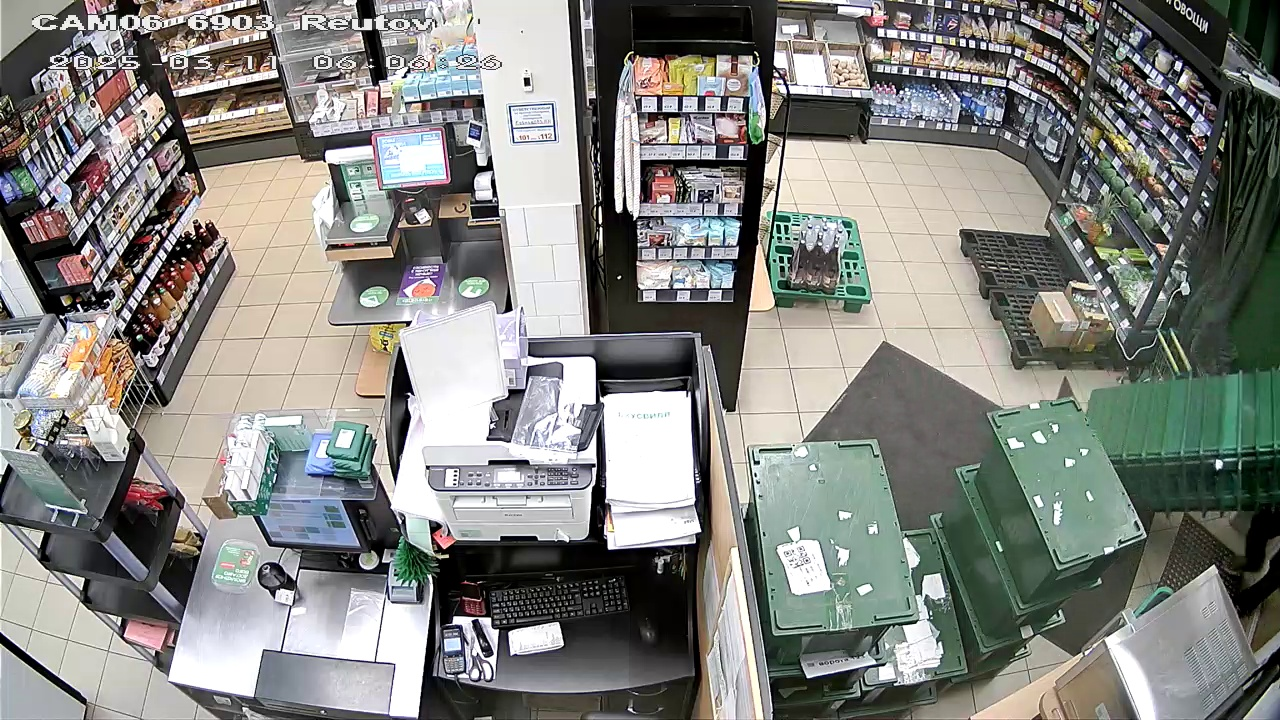pallet: (957, 218, 1126, 368)
